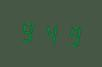four: (40, 19, 60, 47)
nine: (61, 20, 81, 49), (18, 17, 38, 45)
